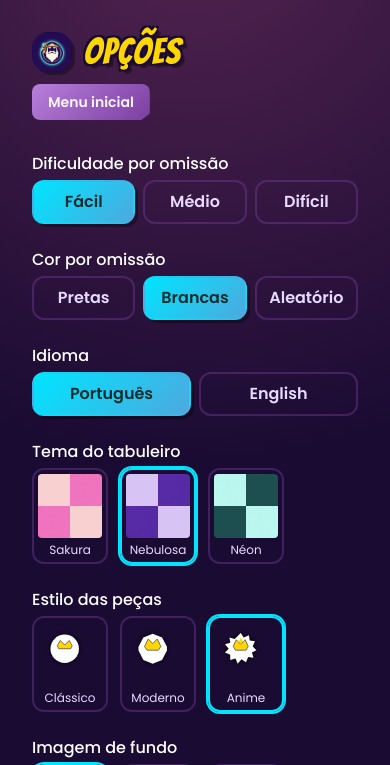
OpcoesPage › updates and persists the default difficulty
Click the button "Difícil".
click(306, 202)  # box [255, 180, 358, 224]
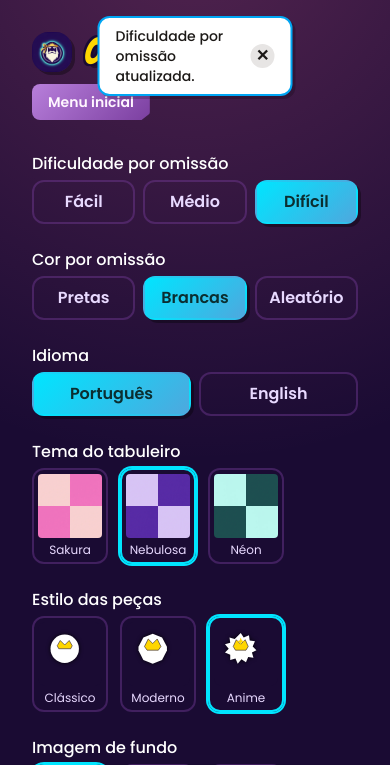
Check: the message shows "Dificuldade", box [116, 26, 223, 86]
